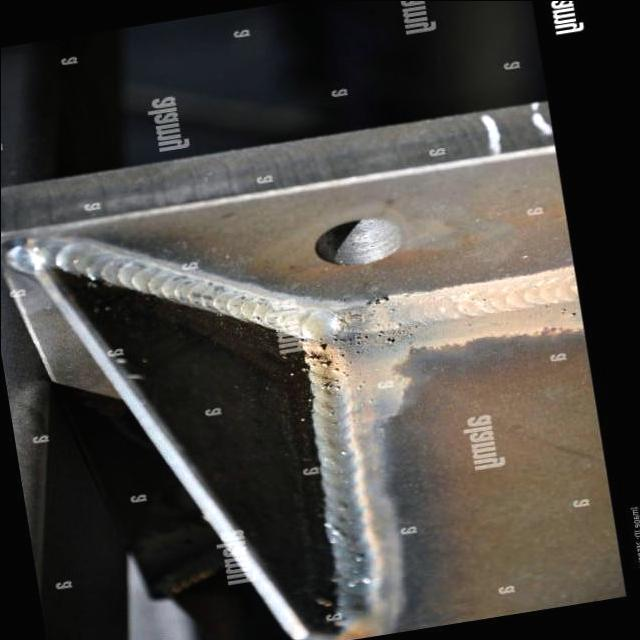defect: (305, 336, 349, 393), (332, 330, 370, 357), (381, 337, 397, 348), (376, 294, 390, 304), (391, 321, 403, 330), (376, 329, 385, 338)
